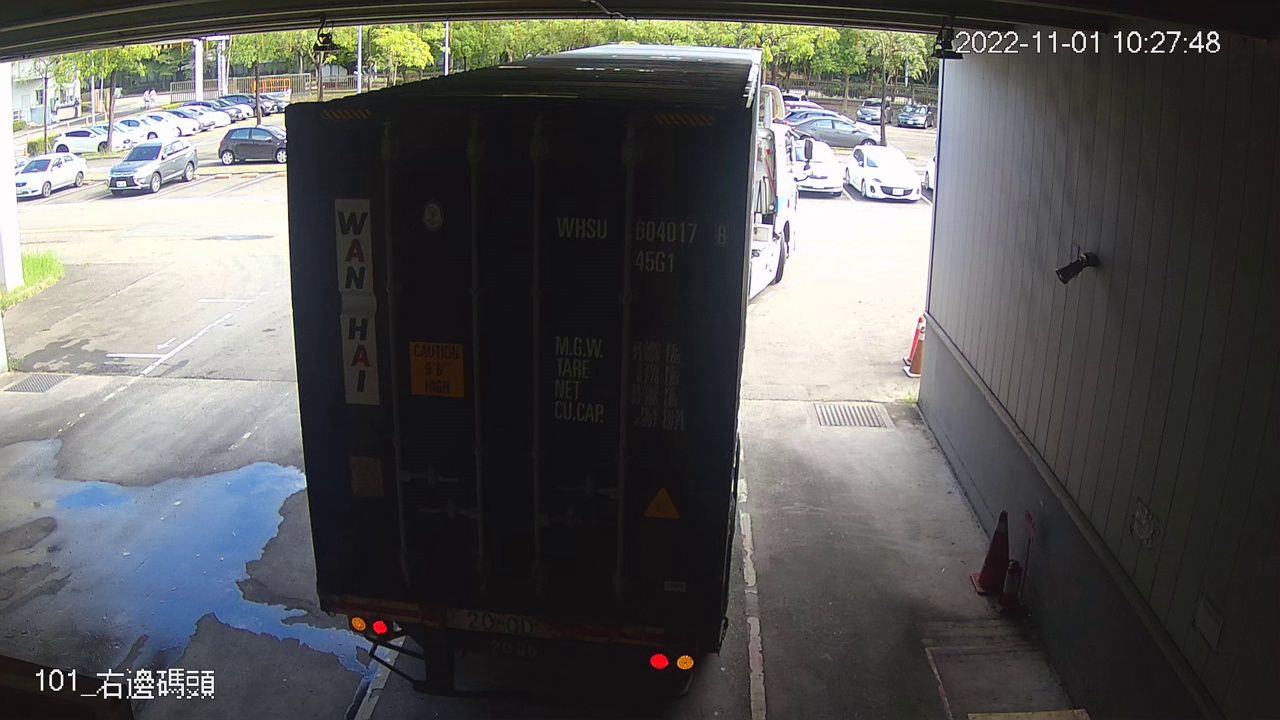container: (549, 208, 734, 276)
